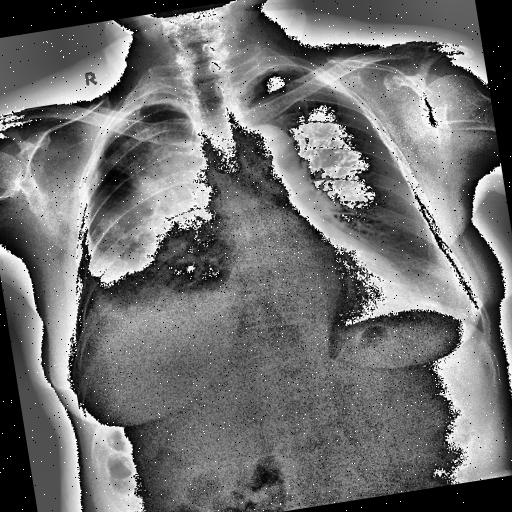10- Pleural effusion: (64, 200, 266, 386), (60, 218, 258, 389), (75, 254, 234, 358)
3- Cardiomegaly: (201, 230, 438, 352)
4- Consolidation: (74, 110, 232, 301), (88, 120, 231, 290), (70, 115, 213, 267)
6- Infiltration: (88, 120, 231, 290), (113, 136, 160, 178)
